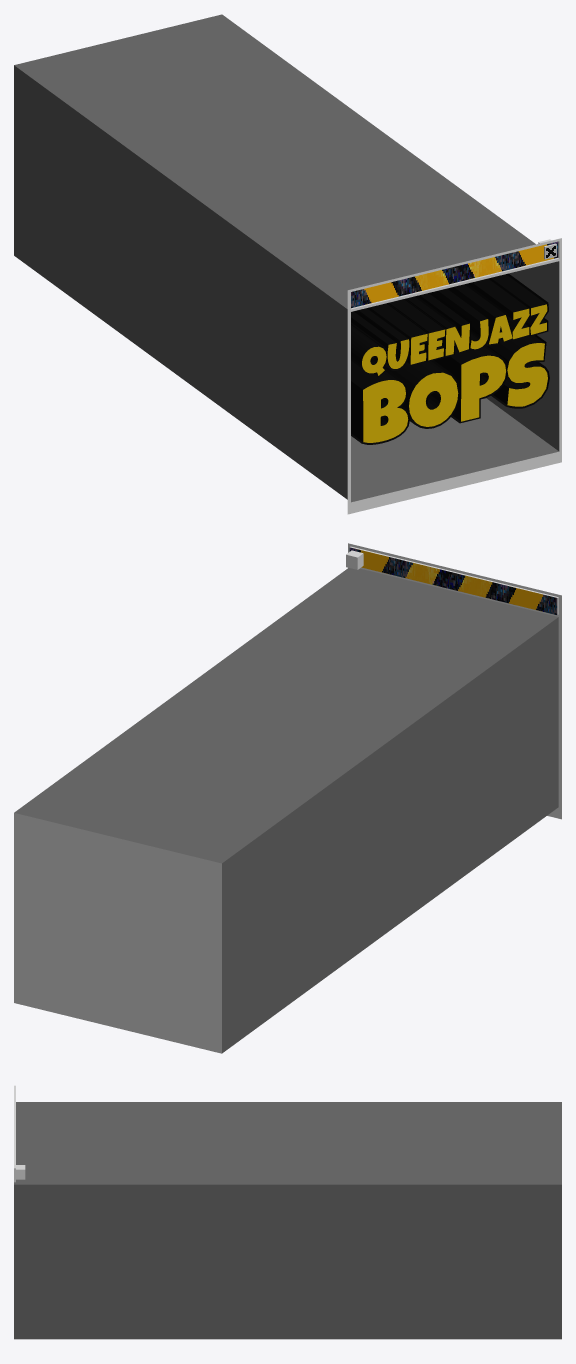
The model's file is bop2.glb.
3 views of the same model, one above another, from view 1: azimuth 30°, elevation 25°; view 2: azimuth 150°, elevation 25°; view 3: azimuth 270°, elevation 25° (orthographic). The views are drawn at different scales.
Visible parts, largest first — view 1: Plane, Text, Text.003, Text.002; view 2: Plane; view 3: Plane.
Part boxes in pixels (<box>): Plane: <box>14,14,561,514</box>; Text: <box>351,273,549,444</box>; Text.003: <box>363,343,547,442</box>; Text.002: <box>362,304,547,375</box>; Plane: <box>14,543,561,1053</box>; Plane: <box>14,1085,561,1339</box>.
Size of the model in its own units: 2 by 2 by 5.45.
6 materials, 2 textured.
